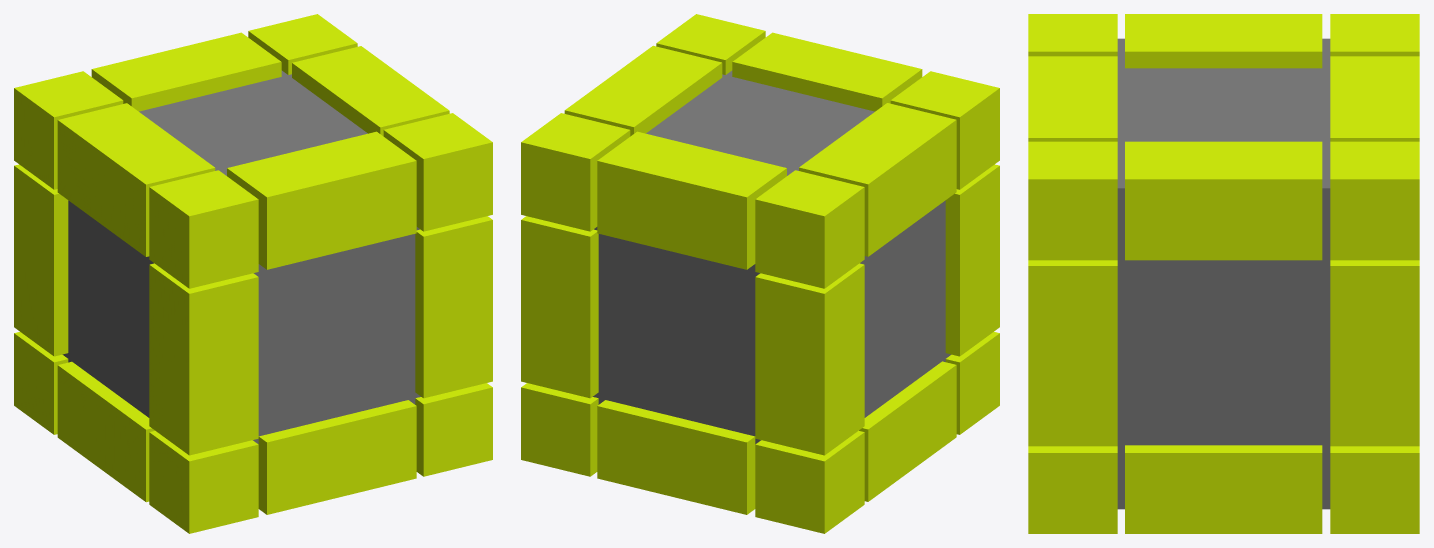
The model's file is BreakableBox.fbx.
3 views of the same model, side by side, from view 1: azimuth 30°, elevation 25°; view 2: azimuth 150°, elevation 25°; view 3: azimuth 270°, elevation 25° (orthographic). The views are drawn at different scales.
Visible parts, largest first — view 1: shard3, shard2, shard11, shard7, shard6, shard12, shard8, shard18, shard1, shard9, shard5, shard17 (+3 smaller); view 2: shard9, shard2, shard13, shard12, shard19, shard8, shard6, shard10, shard15, shard7, shard18, shard17 (+3 smaller); view 3: shard10, shard2, shard13, shard7, shard1, shard9, shard5, shard6, shard17, shard4, shard15, shard16.
Boxes of the visible parts, left/top/right/bottom form: shard3: left=189, top=186, right=478, bottom=418; shard2: left=57, top=38, right=344, bottom=212; shard11: left=181, top=290, right=416, bottom=514; shard7: left=292, top=46, right=449, bottom=258; shard6: left=86, top=143, right=328, bottom=288; shard12: left=14, top=114, right=153, bottom=399; shard8: left=14, top=166, right=154, bottom=502; shard18: left=132, top=263, right=258, bottom=533; shard1: left=383, top=113, right=492, bottom=384; shard9: left=141, top=14, right=357, bottom=76; shard5: left=360, top=342, right=478, bottom=476; shard17: left=14, top=71, right=123, bottom=166; shard9: left=521, top=113, right=760, bottom=378; shard2: left=606, top=74, right=955, bottom=235; shard13: left=521, top=216, right=754, bottom=397; shard12: left=755, top=198, right=945, bottom=399; shard19: left=654, top=294, right=864, bottom=501; shard8: left=810, top=288, right=959, bottom=501; shard6: left=781, top=57, right=999, bottom=242; shard10: left=521, top=330, right=754, bottom=476; shard15: left=597, top=394, right=755, bottom=514; shard7: left=564, top=32, right=874, bottom=136; shard18: left=914, top=165, right=999, bottom=434; shard17: left=755, top=170, right=864, bottom=288; shard10: left=1188, top=260, right=1419, bottom=533; shard2: left=1117, top=14, right=1419, bottom=187; shard13: left=1118, top=252, right=1419, bottom=445; shard7: left=1028, top=82, right=1330, bottom=260; shard1: left=1028, top=141, right=1124, bottom=446; shard9: left=1330, top=82, right=1419, bottom=260; shard5: left=1028, top=262, right=1188, bottom=533; shard6: left=1028, top=14, right=1124, bottom=111; shard17: left=1330, top=14, right=1419, bottom=56; shard4: left=1125, top=453, right=1188, bottom=533; shard15: left=1260, top=517, right=1399, bottom=533; shard16: left=1028, top=446, right=1046, bottom=532.
Bounding box in the file's own units: 106 × 106 × 106.
